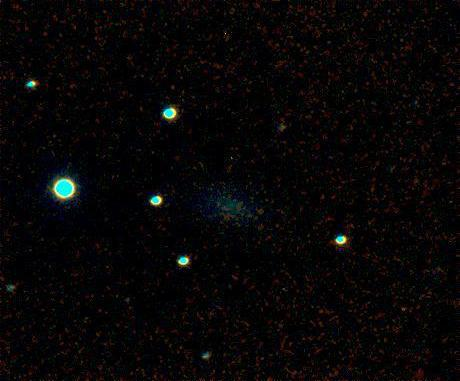star: (389, 291, 419, 321)
